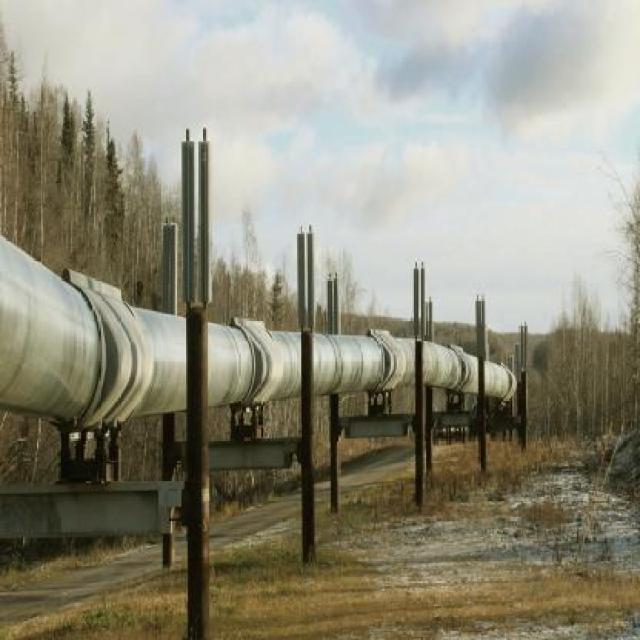gas: (0, 231, 514, 417)
